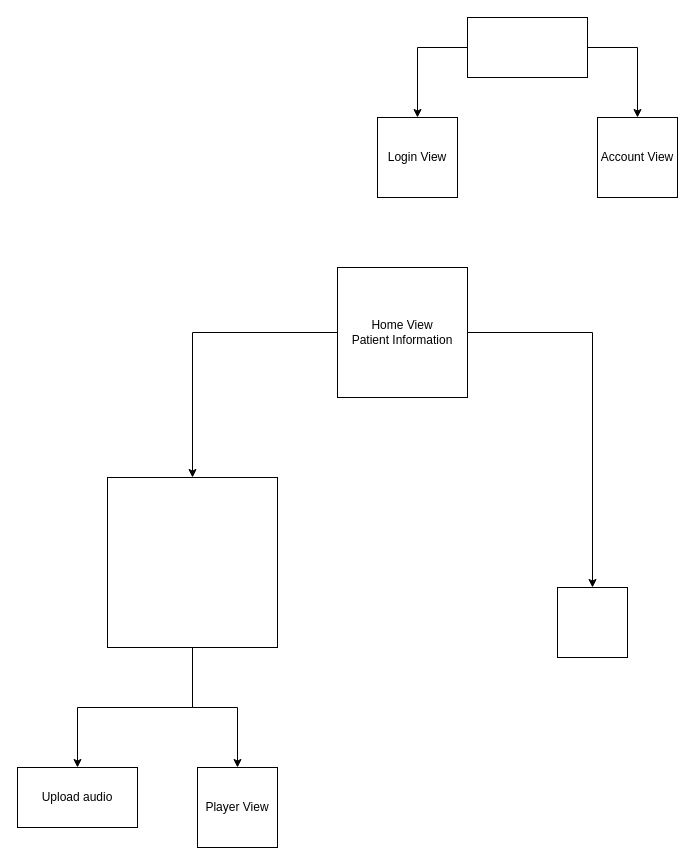
The diagram is 695 pixels wide and 865 high, and some of its shapes have lost their labels. Each missing label, with the centre of its shape:
"AuthContext User defaults: Token" goes at [527,47].
"Map View" goes at [592,622].
"Recording View Patient information from Home view Keywords data Recording data" goes at [192,562].
